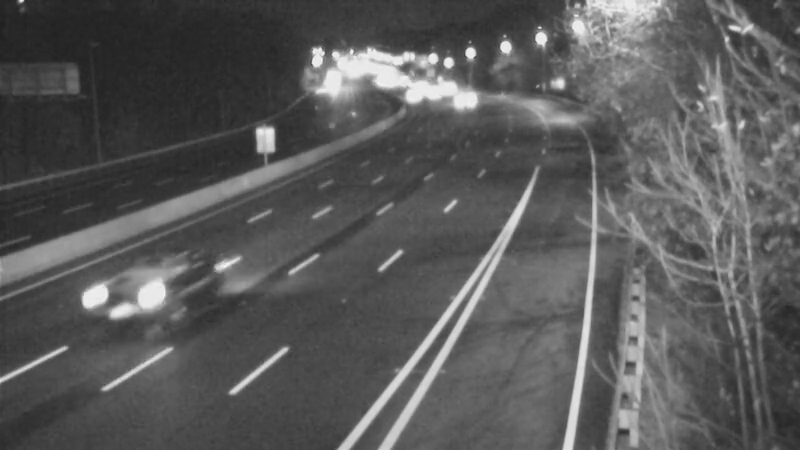vehicle: (76, 246, 186, 356), (384, 67, 434, 117), (437, 76, 487, 126)
